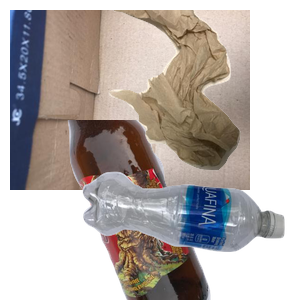cardboard: (10, 10, 250, 190)
glass: (65, 120, 300, 300)
plastic: (80, 169, 300, 300)
trash: (103, 10, 300, 173)
